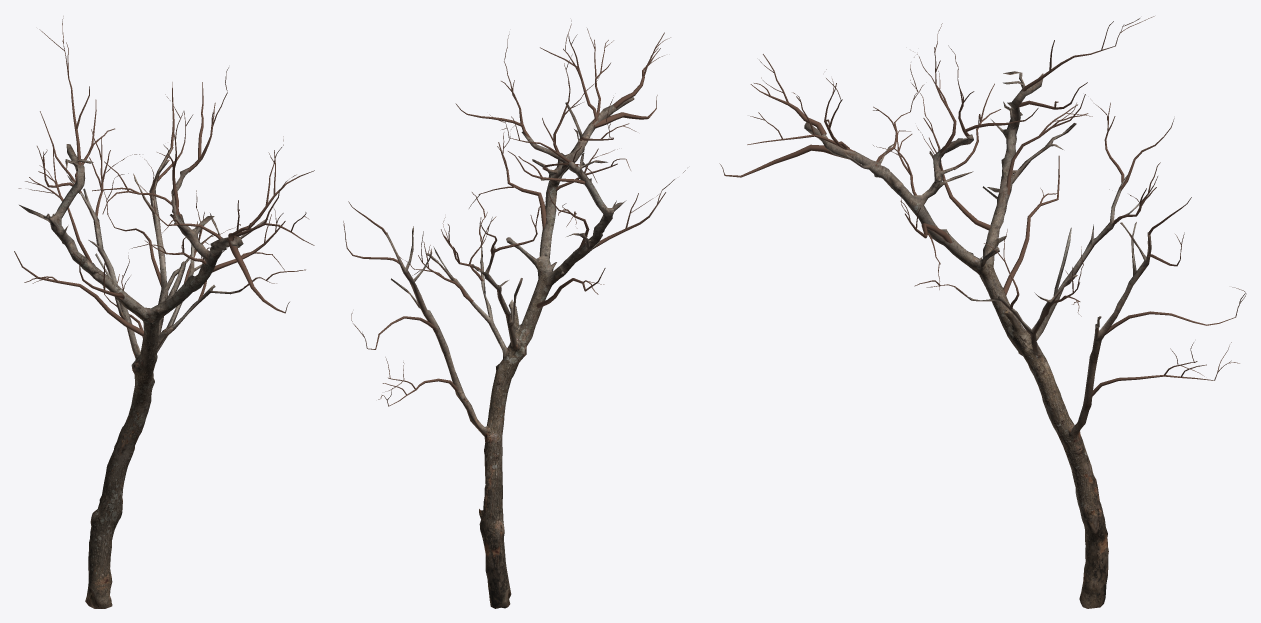
Rendered from tree_small_02_1k.fbx.
3 views of the same model, side by side, from view 1: azimuth 30°, elevation 25°; view 2: azimuth 150°, elevation 25°; view 3: azimuth 270°, elevation 25° (orthographic). The views are drawn at different scales.
Visible parts, largest first — view 1: tree_small_02, tree_small_02_branches; view 2: tree_small_02, tree_small_02_branches; view 3: tree_small_02, tree_small_02_branches.
Boxes of the visible parts, left/top/right/bottom form: tree_small_02: left=19, top=144, right=267, bottom=608; tree_small_02_branches: left=14, top=16, right=314, bottom=338; tree_small_02: left=386, top=97, right=634, bottom=608; tree_small_02_branches: left=343, top=20, right=685, bottom=406; tree_small_02: left=804, top=71, right=1151, bottom=608; tree_small_02_branches: left=719, top=16, right=1246, bottom=397.
Bounding box in the file's own units: 202 × 433 × 351.
